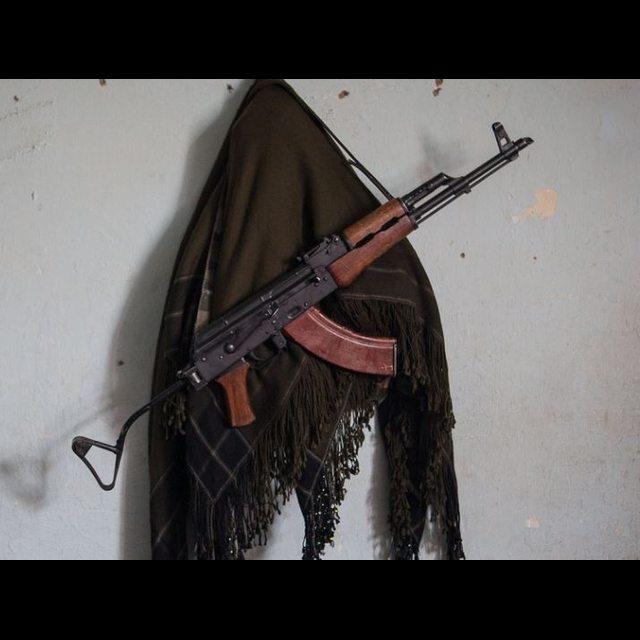AK47: (200, 121, 537, 430)
